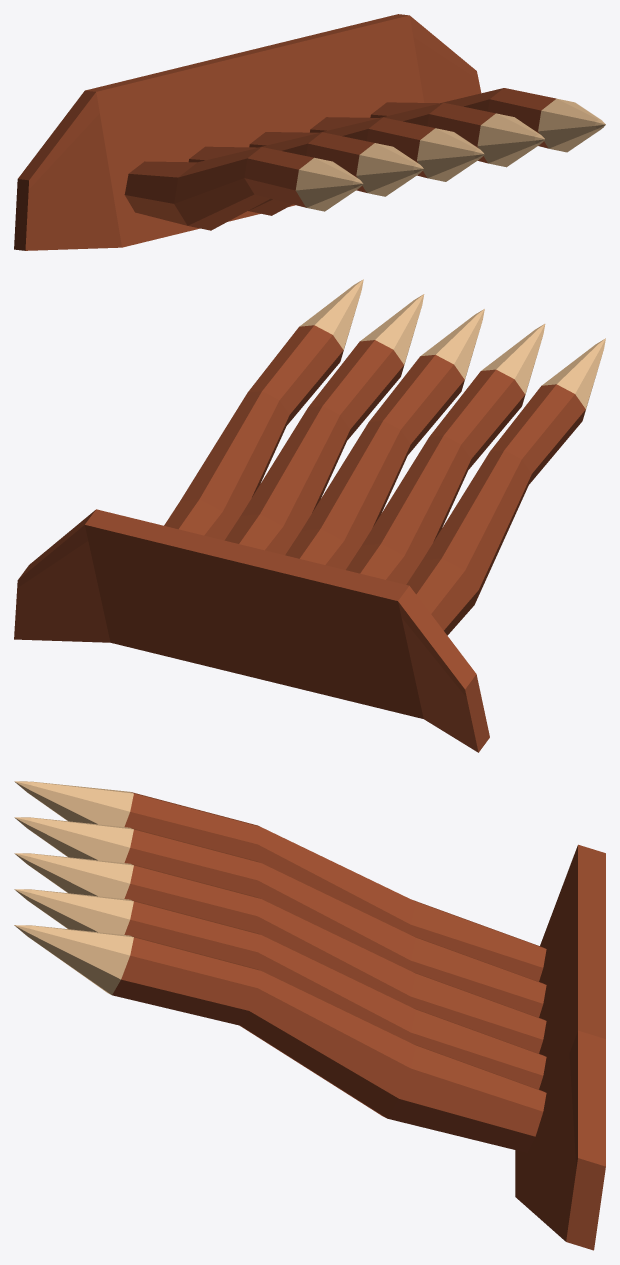
The model's file is Wooden Spikes.fbx.
The picture shows the model from 3 angles, top to bottom: view 1: azimuth 30°, elevation 25°; view 2: azimuth 150°, elevation 25°; view 3: azimuth 270°, elevation 25°; orthographic projection. The views are drawn at different scales.
Parts seen in each view (by area): view 1: Spikes Merged; view 2: Spikes Merged; view 3: Spikes Merged.
Boxes of the visible parts, x1=… form: Spikes Merged: x1=14, y1=14, x2=605, y2=250; Spikes Merged: x1=14, y1=279, x2=605, y2=752; Spikes Merged: x1=14, y1=781, x2=605, y2=1250.
Bounding box in the file's own units: 80.83 × 35.44 × 73.31.
